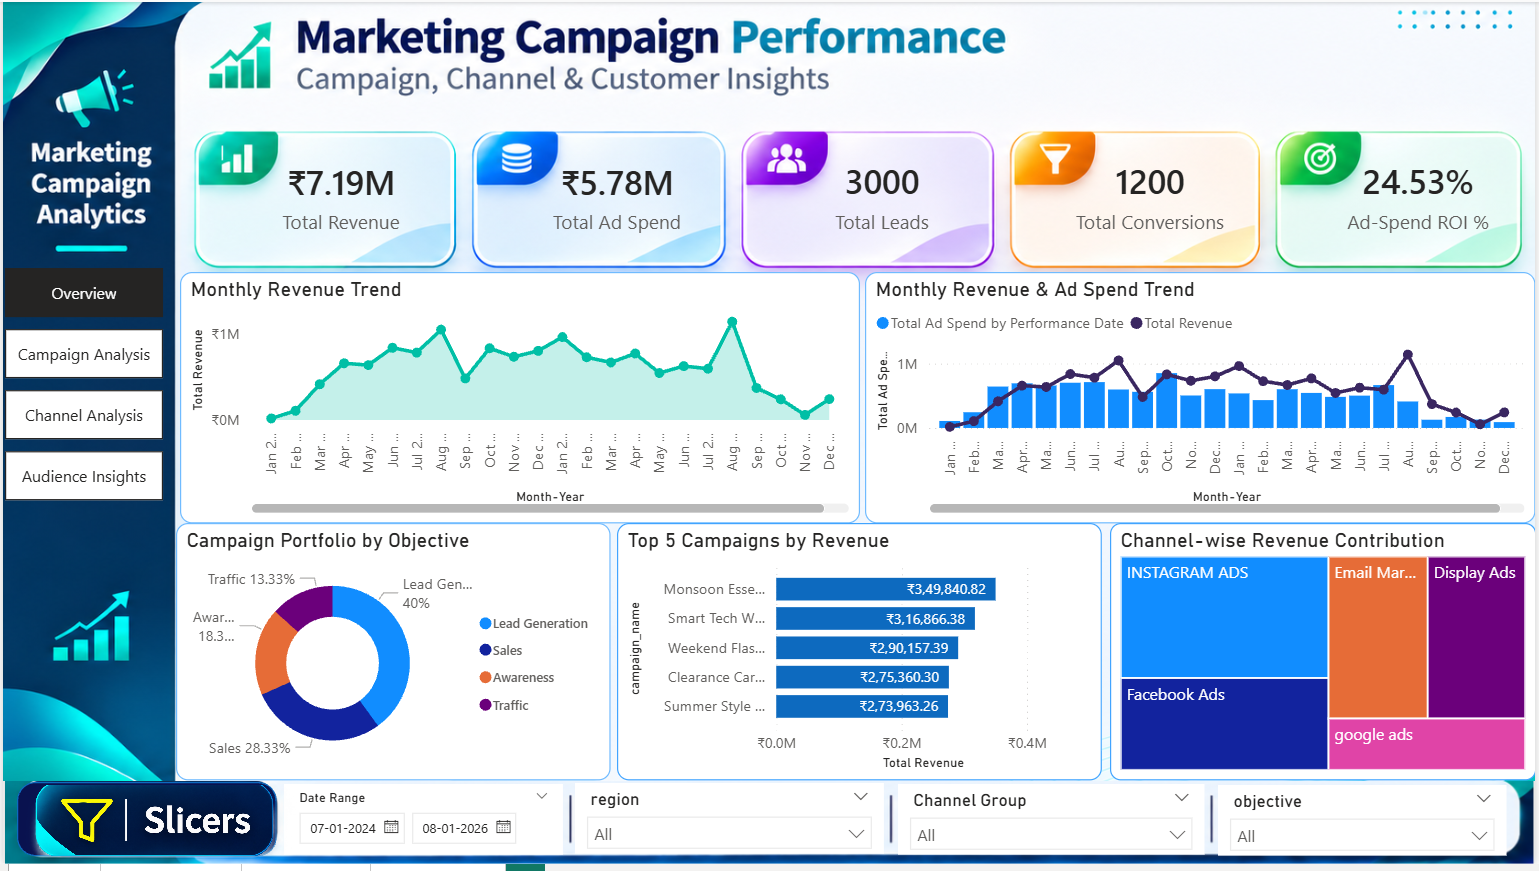

What the dashboard file says about the page in this screenshot:
{"tool":"powerbi","page":{"name":"Overview","canvas":[1280,720],"ordinal":0},"visuals":[{"type":"card","fields":{"Values":["_Measures.Total Revenue"]},"box":[201,117.3,162.2,88.8],"z":0},{"type":"card","fields":{"Values":["_Measures.Total Ad Spend"]},"box":[432.1,117.3,162.2,88.8],"z":1000},{"type":"card","fields":{"Values":["_Measures.Total Leads"]},"box":[653.4,116.2,162.1,89.5],"z":2000},{"type":"card","fields":{"Values":["_Measures.Total Conversions"]},"box":[877.3,116.2,162.1,89.5],"z":3000},{"type":"card","fields":{"Values":["_Measures.Ad-Spend ROI %"]},"box":[1101.2,116.2,162.1,89.5],"z":4000},{"type":"lineChart","title":"Monthly Revenue Trend","fields":{"Category":["DimDate.Month-Year"],"Y":["_Measures.Total Revenue"]},"box":[147.5,225.1,567.5,210.5],"z":5000},{"type":"lineClusteredColumnComboChart","title":"Monthly Revenue & Ad Spend Trend","fields":{"Category":["DimDate.Month-Year"],"Y2":["_Measures.Total Revenue"],"Y":["_Measures.Total Ad Spend by Performance Date"]},"box":[720.2,225.1,559.8,210.5],"z":6000},{"type":"clusteredBarChart","title":"Top 5 Campaigns by Revenue","fields":{"Category":["marketing_campaigns campaigns.campaign_name"],"Y":["_Measures.Total Revenue"]},"box":[513.2,435.3,405.2,215.2],"z":7000},{"type":"treemap","title":"Channel-wise Revenue Contribution","fields":{"Group":["marketing_campaigns marketing_channels.channel_name"],"Values":["_Measures.Total Revenue"]},"box":[924.3,435.3,355.8,215.2],"z":8000},{"type":"pageNavigator","box":[1.8,222,132.5,195.5],"z":9000},{"type":"donutChart","title":"Campaign Portfolio by Objective","fields":{"Category":["marketing_campaigns campaigns.objective"],"Y":["Count(marketing_campaigns campaigns.campaign_id)"]},"box":[144.8,435.3,362.5,215.2],"z":10000},{"type":"image","box":[0,650.5,1280.1,69.5],"z":11000},{"type":"slicer","fields":{"Values":["DimDate.Date"]},"box":[234.4,653,232.7,58.6],"z":12000},{"type":"slicer","fields":{"Values":["marketing_campaigns campaigns.region"]},"box":[478,652.2,257.9,58.6],"z":13000},{"type":"slicer","fields":{"Values":["marketing_campaigns marketing_channels.Channel Group"]},"box":[747.6,653,256.2,58.6],"z":14000},{"type":"slicer","fields":{"Values":["marketing_campaigns campaigns.objective"]},"box":[1014.7,653.9,241.1,58.6],"z":15000},{"type":"shape","box":[11.7,651.3,216.8,62],"z":16000},{"type":"image","box":[0,653.9,252.8,59.4],"z":17000}]}

Visuals, with their boxes in screenshot pixels (x1, y1, x2, y2), scaled from the page's 1280x720 canvas onto the 1539x871 screenshot:
card - _Measures.Total Revenue: region(242, 142, 437, 249)
card - _Measures.Total Ad Spend: region(520, 142, 715, 249)
card - _Measures.Total Leads: region(786, 141, 981, 249)
card - _Measures.Total Conversions: region(1055, 141, 1250, 249)
card - _Measures.Ad-Spend ROI %: region(1324, 141, 1519, 249)
"Monthly Revenue Trend" lineChart: region(177, 272, 860, 527)
"Monthly Revenue & Ad Spend Trend" lineClusteredColumnComboChart: region(866, 272, 1538, 527)
"Top 5 Campaigns by Revenue" clusteredBarChart: region(617, 527, 1104, 787)
"Channel-wise Revenue Contribution" treemap: region(1111, 527, 1538, 787)
pageNavigator: region(2, 269, 161, 505)
"Campaign Portfolio by Objective" donutChart: region(174, 527, 610, 787)
image: region(0, 787, 1538, 870)
slicer - DimDate.Date: region(282, 790, 562, 861)
slicer - marketing_campaigns campaigns.region: region(575, 789, 885, 860)
slicer - marketing_campaigns marketing_channels.Channel Group: region(899, 790, 1207, 861)
slicer - marketing_campaigns campaigns.objective: region(1220, 791, 1510, 862)
shape: region(14, 788, 275, 863)
image: region(0, 791, 304, 863)
